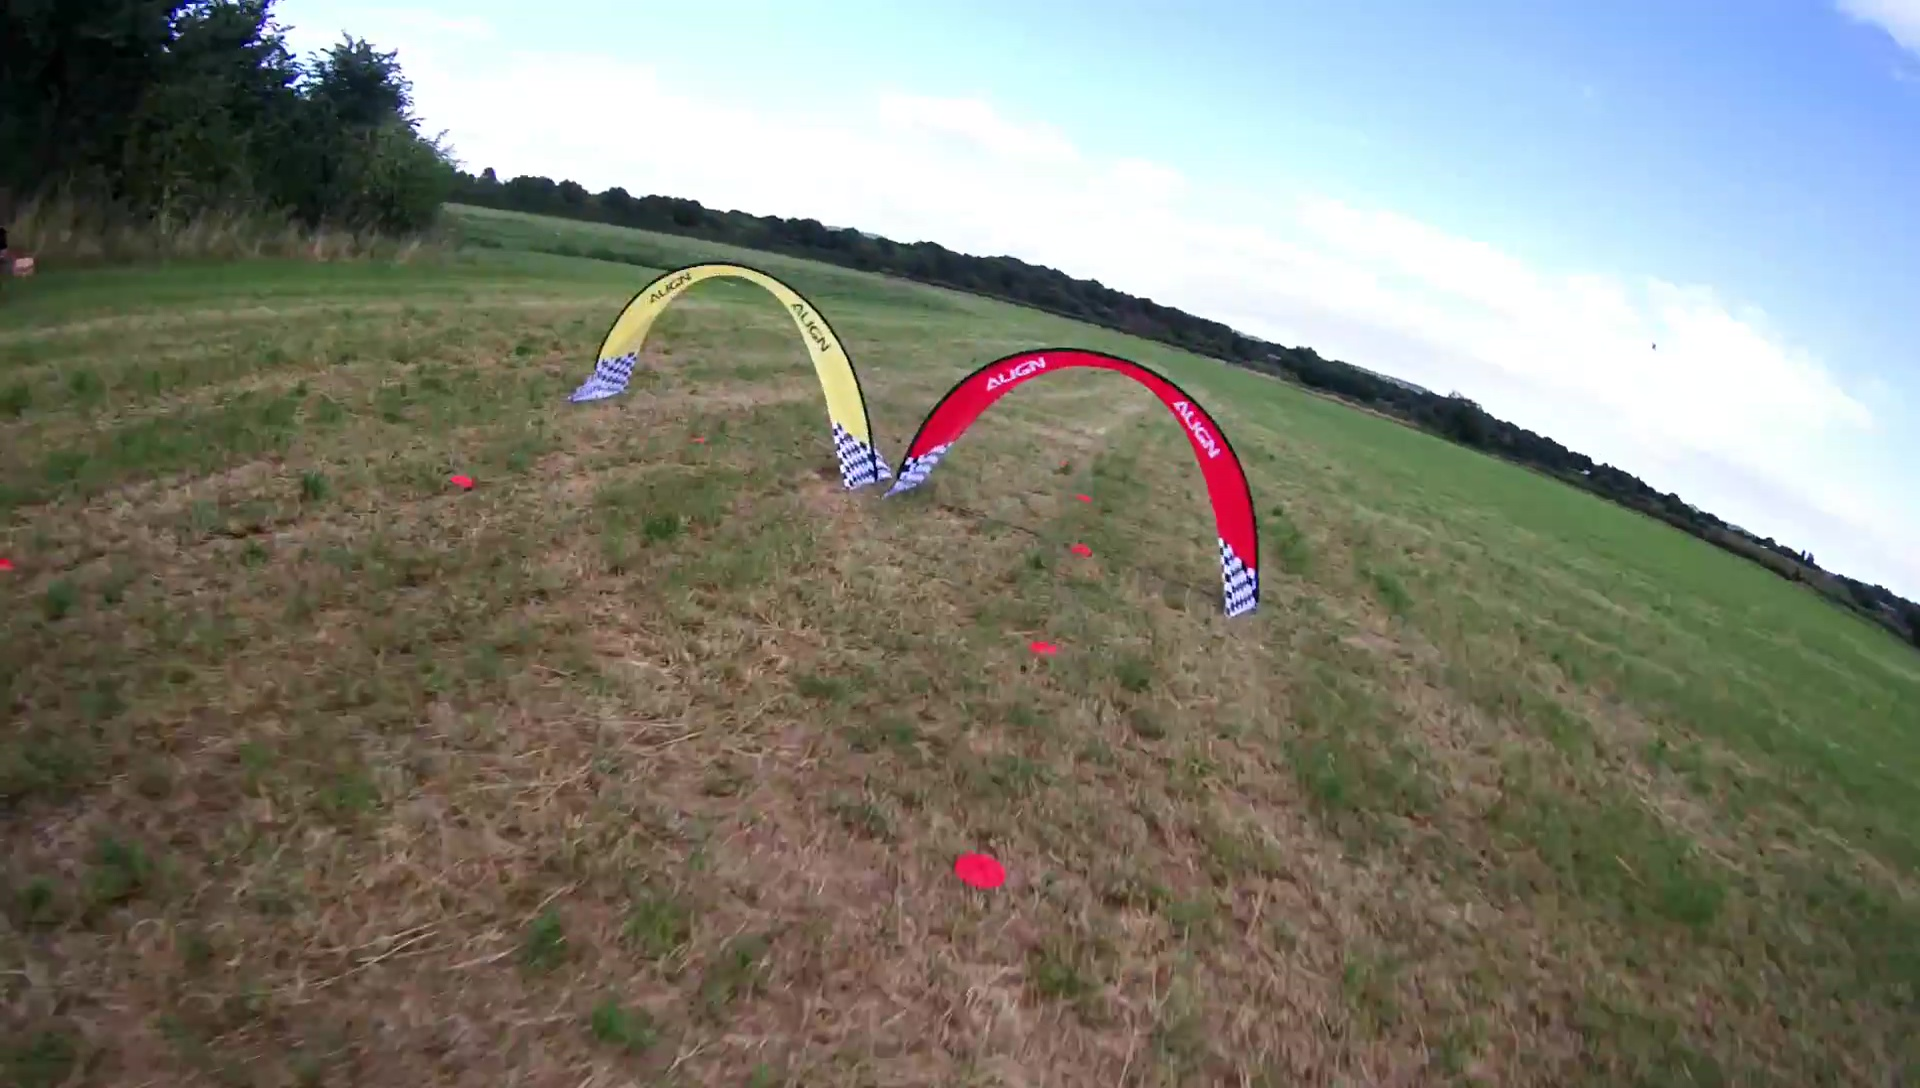gate: (886, 344, 1262, 620), (571, 258, 890, 491)
